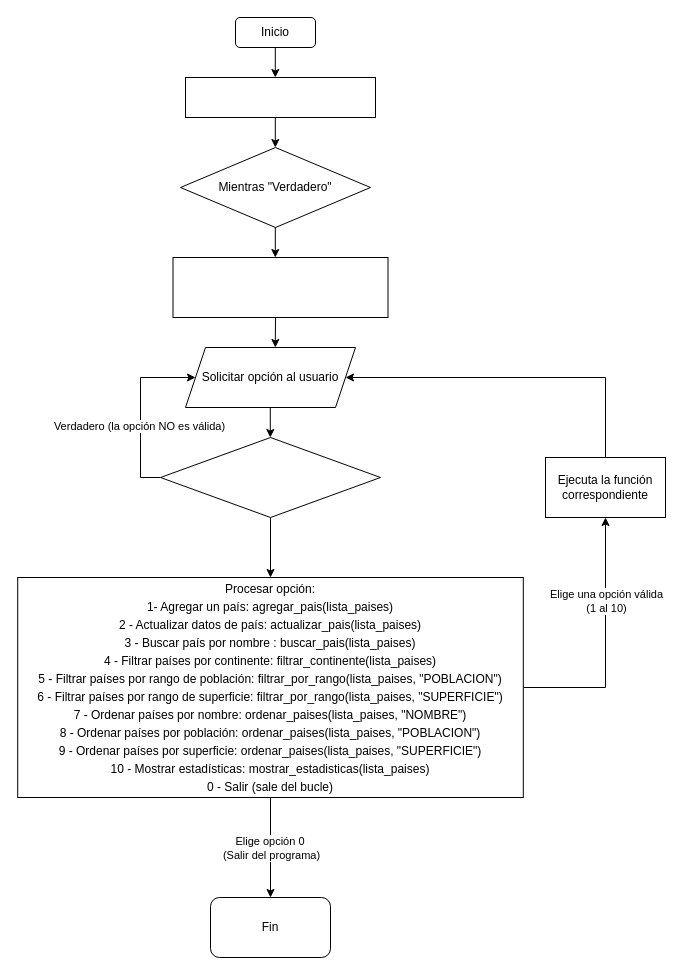
Some shapes in this 683 by 975 pixel diagram are drawn without their labels. The shapes that lost their labels are listed below. From the top down, each one's centre as x and y in pixels, then its label:
the point at 280,97: Importación de módulos. Mensaje de bienvenida
the point at 280,287: Cargar lista_paises de archivo csv mostrar_menu() al usuario
the point at 270,477: Mientras la opción no sea válida
